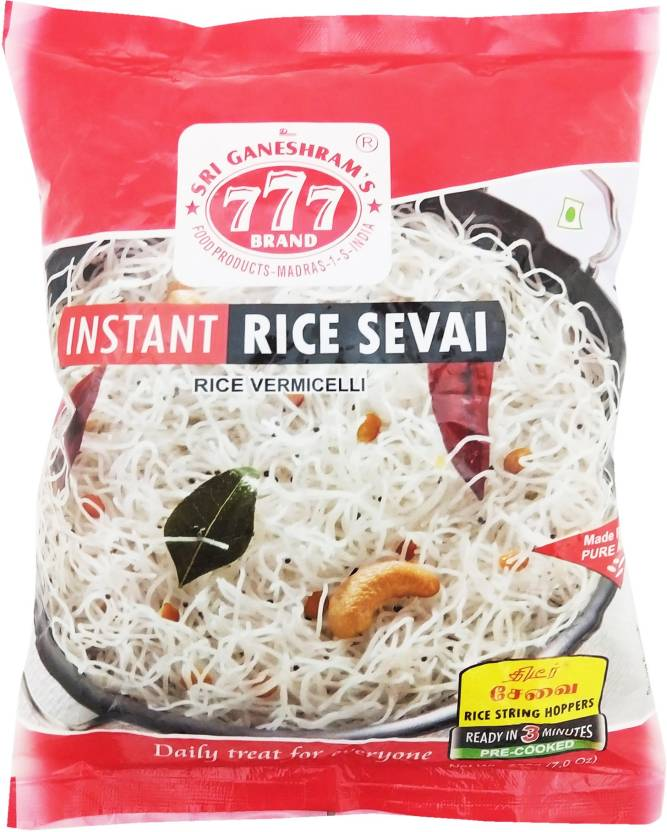plain spaghetti: (253, 415, 454, 549)
